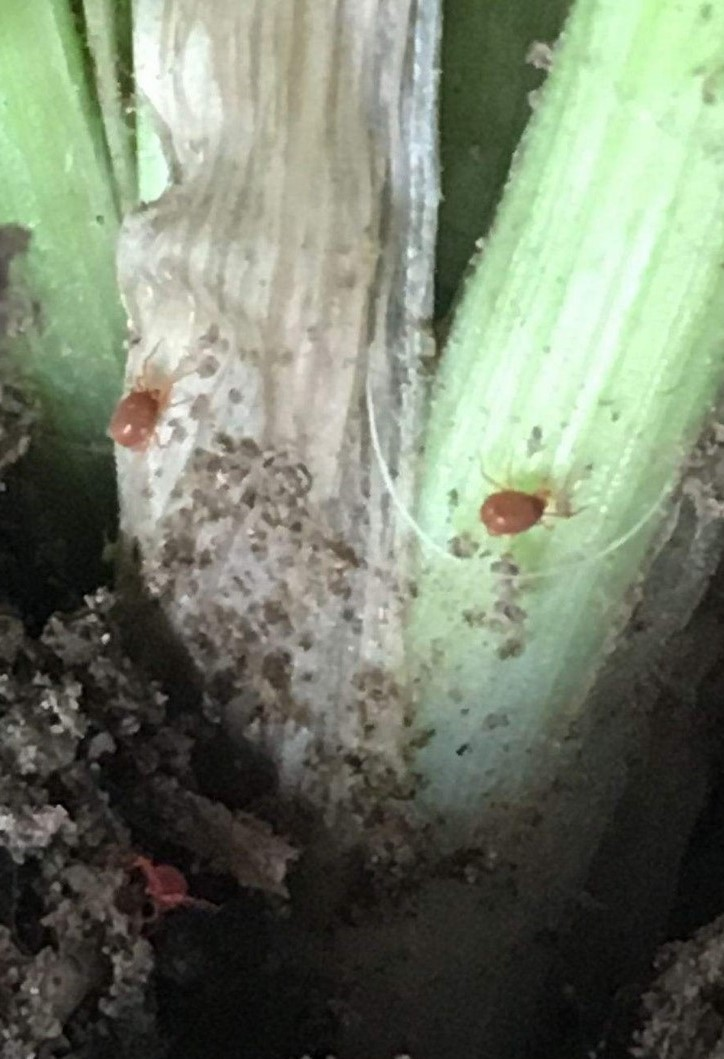Wheat Red Spider: (72, 329, 210, 489), (454, 460, 586, 552)
